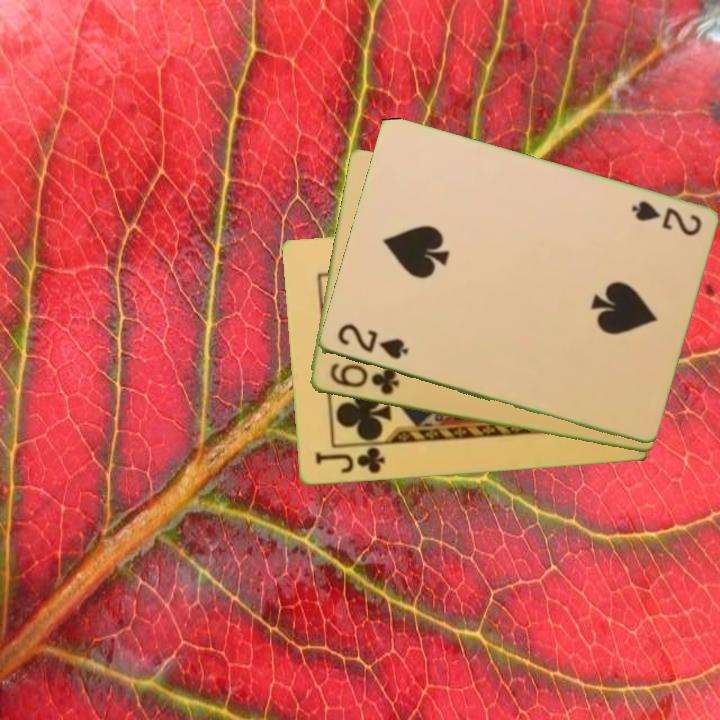2s: (333, 320, 411, 363), (627, 197, 704, 240)
6c: (325, 359, 402, 399)
Jc: (311, 444, 388, 477)
